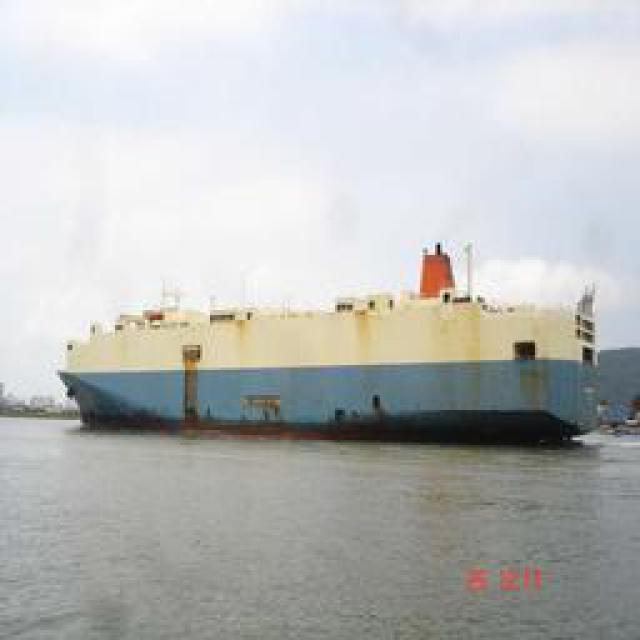Ship: (49, 264, 615, 443)
